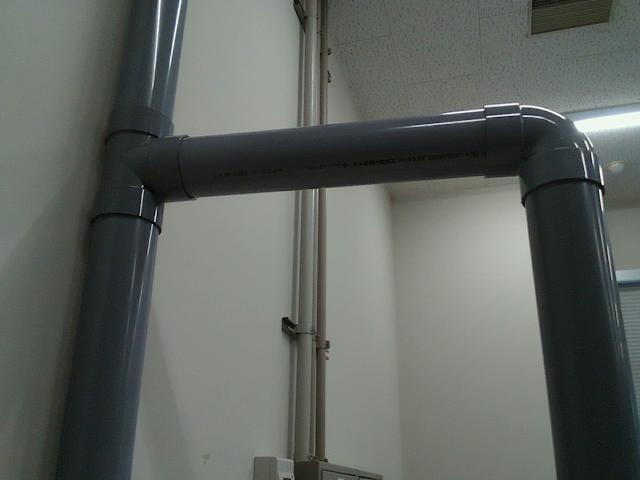bent: (481, 103, 603, 213)
junction: (86, 107, 193, 232)
